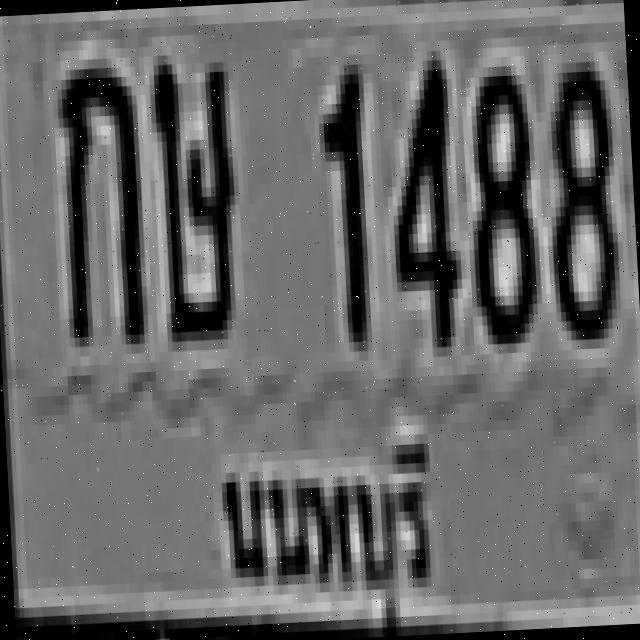1: (316, 50, 372, 338)
10GorGai: (51, 52, 144, 334)
4: (380, 51, 456, 340)
48SorRueSi: (148, 48, 236, 328)
8: (538, 52, 618, 332), (459, 51, 534, 331)
Nonthaburi: (203, 399, 454, 640)
